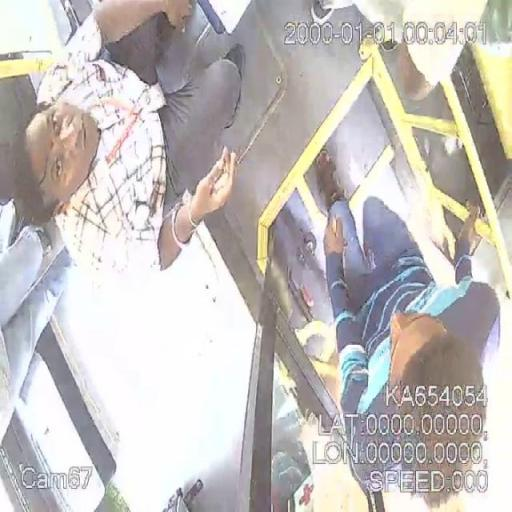persona: (313, 146, 501, 511), (0, 0, 242, 274), (0, 221, 66, 476)
